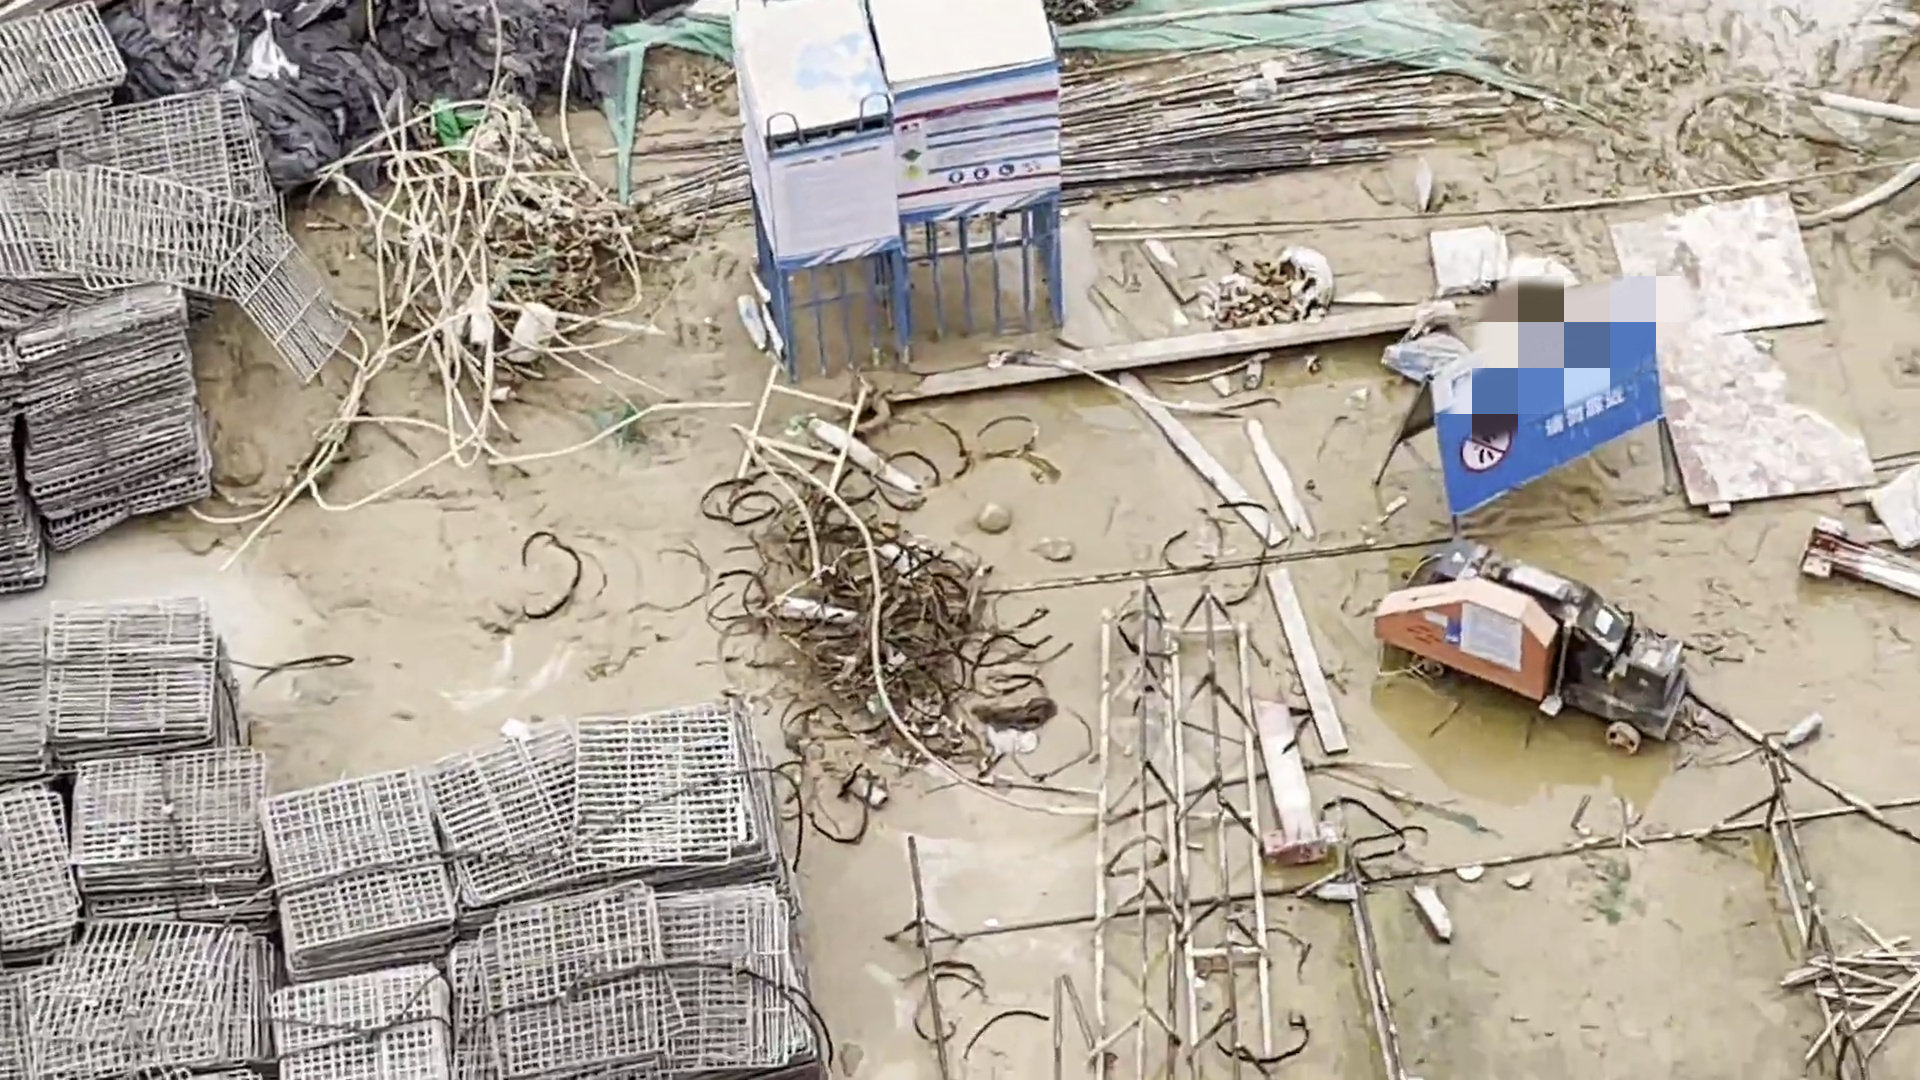slogan: (1436, 351, 1662, 480)
